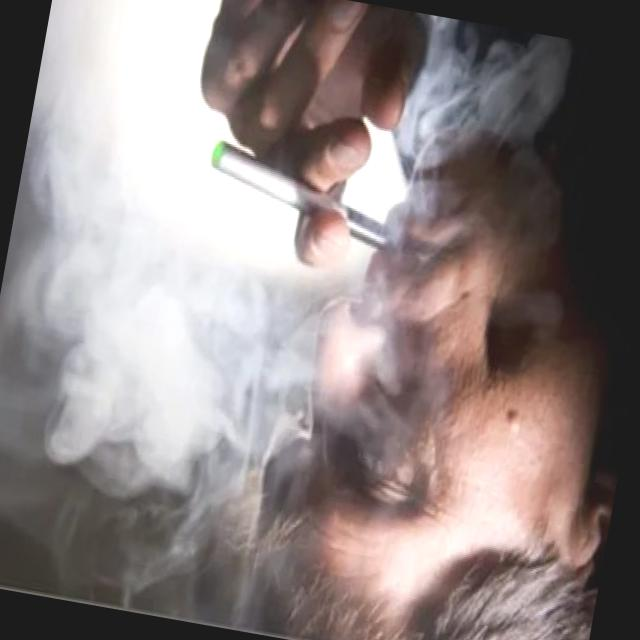cigarette: (196, 130, 406, 255)
